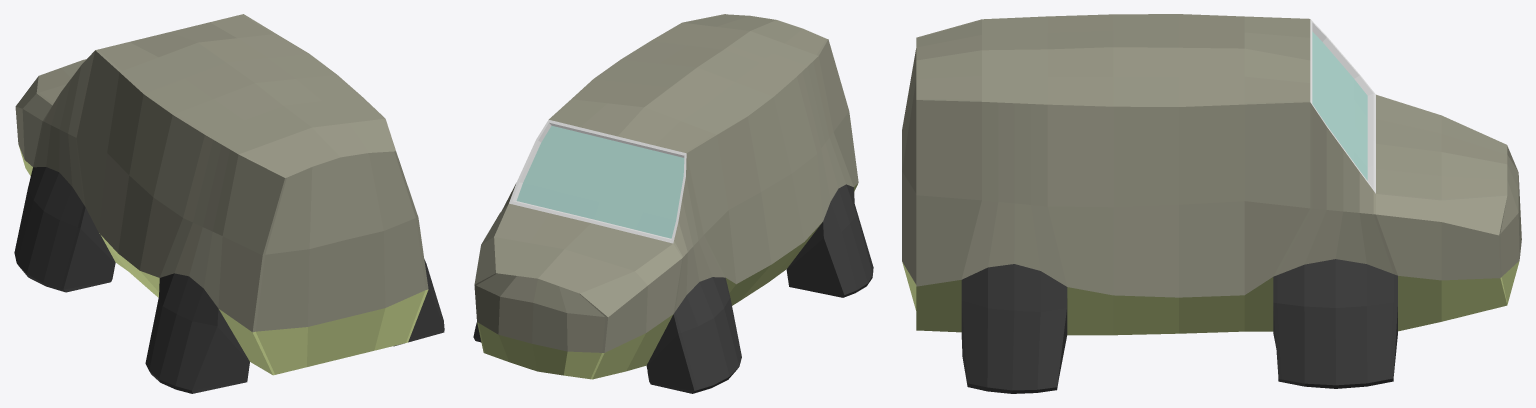
Rendered from FlyingVan1.fbx.
3 views of the same model, side by side, from view 1: azimuth 30°, elevation 25°; view 2: azimuth 150°, elevation 25°; view 3: azimuth 270°, elevation 25° (orthographic). The views are drawn at different scales.
Visible parts, largest first — view 1: Cube; view 2: Cube; view 3: Cube.
Part boxes in pixels (box(x1,y1,x2,y2)): Cube: box(14, 14, 444, 393); Cube: box(473, 14, 873, 393); Cube: box(902, 14, 1521, 393).
Bounding box in the file's own units: 376 × 301 × 627.
